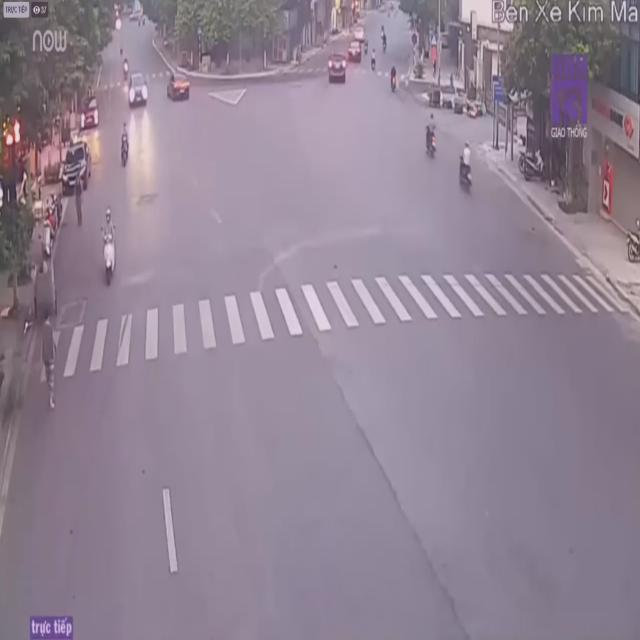car: (168, 66, 192, 102)
motorbike: (99, 208, 118, 287), (458, 143, 473, 190), (426, 116, 438, 154), (119, 124, 129, 167)
